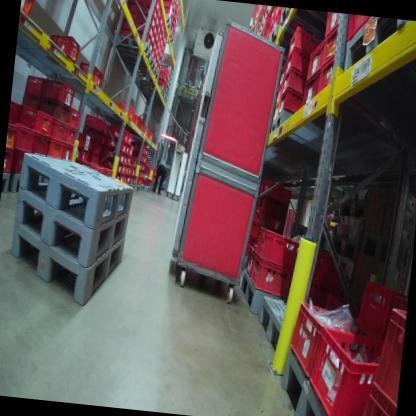pallet: (5, 198, 128, 309), (13, 147, 135, 239), (10, 180, 135, 268), (271, 348, 347, 416), (340, 16, 416, 81), (256, 292, 297, 357), (230, 268, 268, 317), (112, 33, 154, 61), (116, 50, 156, 76), (131, 78, 167, 97), (132, 64, 160, 83), (7, 171, 25, 196), (141, 90, 168, 105), (2, 163, 10, 196), (160, 62, 174, 76), (164, 12, 173, 30), (167, 30, 174, 45), (163, 80, 170, 92), (142, 186, 151, 194), (134, 182, 141, 192), (165, 79, 171, 89), (166, 72, 172, 82), (148, 180, 155, 187), (128, 183, 136, 189), (140, 182, 144, 191), (164, 91, 168, 98), (151, 187, 154, 192)
small_load_carrier: (306, 323, 392, 416), (283, 298, 371, 384), (363, 306, 406, 407), (351, 282, 404, 342), (253, 225, 303, 274), (249, 249, 298, 296), (303, 272, 340, 319), (354, 383, 398, 416), (16, 103, 56, 139), (44, 31, 85, 66), (284, 24, 318, 63), (40, 75, 76, 109), (280, 68, 310, 107), (306, 243, 333, 285), (343, 15, 376, 49), (74, 57, 107, 90), (320, 25, 343, 71), (36, 97, 71, 126), (299, 69, 321, 115), (284, 49, 316, 80), (258, 175, 292, 204), (278, 90, 308, 120), (316, 56, 339, 95), (306, 42, 324, 82), (264, 194, 291, 219), (22, 73, 46, 100), (321, 12, 343, 41), (80, 123, 103, 149), (14, 125, 36, 152), (30, 130, 50, 157), (243, 237, 257, 274), (110, 100, 134, 120), (102, 142, 126, 162), (46, 136, 65, 161), (18, 0, 37, 25), (138, 2, 160, 23), (133, 10, 156, 30), (84, 115, 108, 134), (49, 119, 68, 143), (5, 119, 18, 153), (105, 133, 126, 153), (9, 148, 25, 174), (8, 98, 22, 127), (19, 94, 41, 112), (102, 155, 124, 172), (115, 7, 137, 23), (132, 28, 152, 45), (61, 144, 76, 166), (3, 148, 16, 173), (77, 129, 92, 150), (68, 107, 81, 131), (133, 22, 153, 37), (121, 0, 143, 13), (109, 126, 128, 141), (64, 125, 78, 145), (109, 26, 133, 36), (247, 218, 260, 236), (251, 205, 263, 223), (272, 10, 282, 31), (140, 0, 161, 10), (114, 21, 133, 32), (159, 0, 176, 12), (79, 146, 91, 162), (160, 3, 173, 17), (132, 141, 147, 153), (273, 6, 283, 20), (88, 152, 100, 163), (156, 79, 167, 90), (127, 130, 133, 147), (158, 72, 169, 81), (132, 114, 140, 125), (75, 146, 81, 160), (143, 177, 152, 186), (160, 0, 175, 5), (123, 173, 129, 185), (139, 153, 145, 165), (114, 171, 121, 181), (122, 0, 139, 4), (132, 156, 138, 167), (162, 68, 170, 76), (125, 145, 130, 157), (125, 163, 131, 173), (138, 160, 144, 170), (133, 175, 139, 185), (123, 153, 128, 164), (126, 172, 131, 183), (122, 162, 126, 175), (119, 173, 124, 183), (130, 173, 135, 183), (127, 154, 132, 163), (131, 166, 135, 177)
